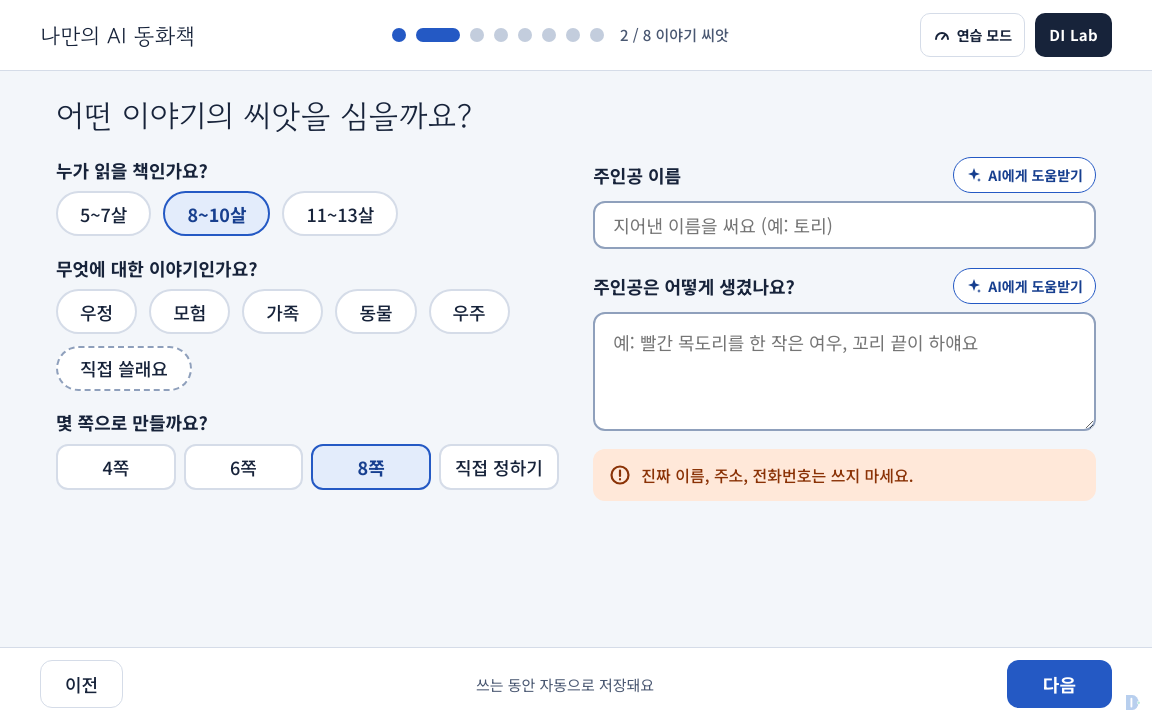
it: SeedScreen › more than 8 pages shows the "takes longer" hint, and a preset button turns the stepper off
Expected: the text "쪽이 많을수록 그림을 만드는 시간이 길어져요." is not shown
Click the button "직접 정하기": point(499, 467) x1=439 y1=444 x2=559 y2=490
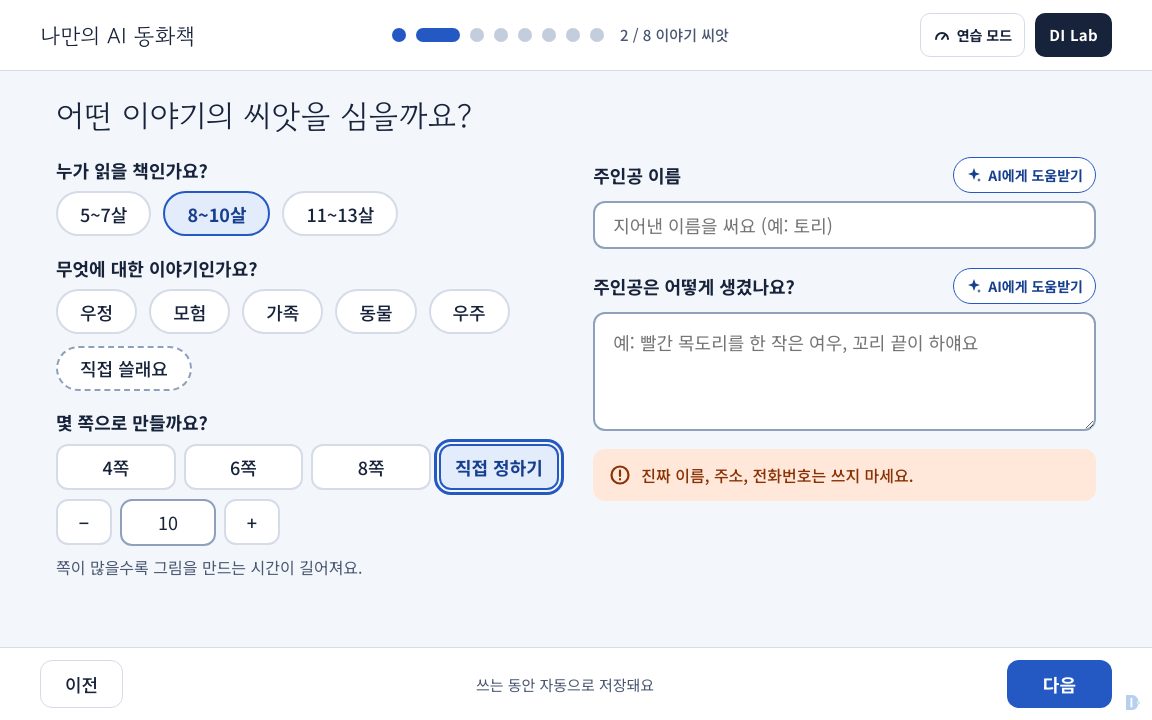
Now the text "쪽이 많을수록 그림을 만드는 시간이 길어져요." is shown, box x1=56 y1=555 x2=362 y2=579
Click the button "6쪽": point(244, 467) x1=184 y1=444 x2=303 y2=490
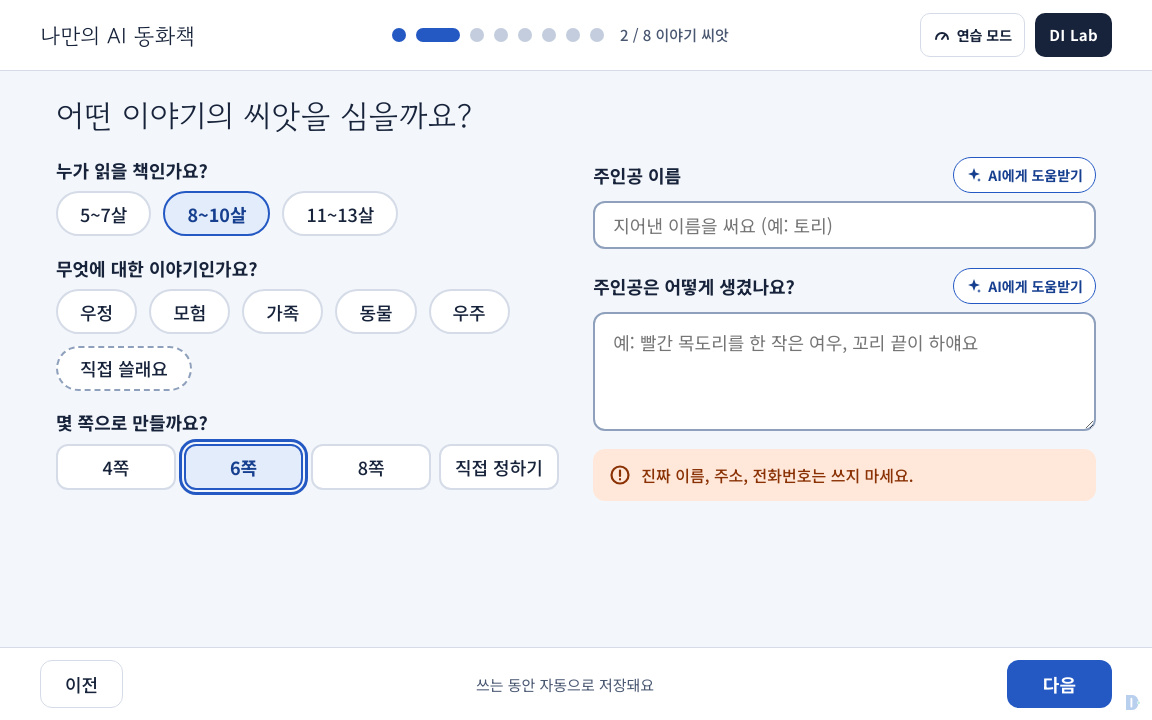
Now the text "쪽이 많을수록 그림을 만드는 시간이 길어져요." is gone
